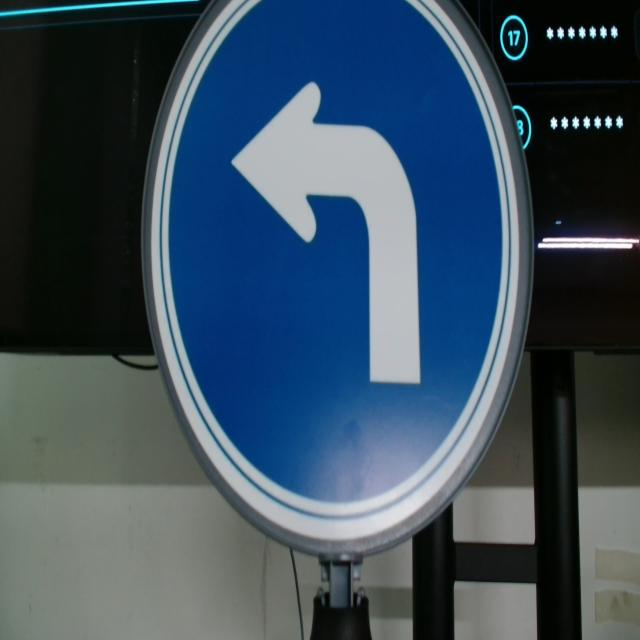left_direction: (136, 3, 535, 566)
